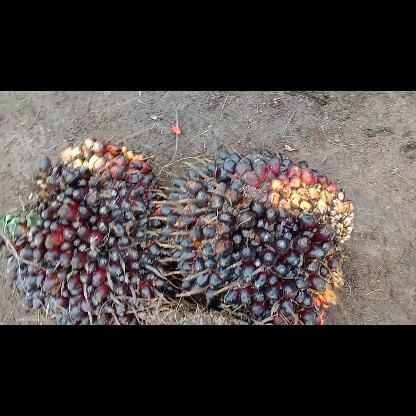TBS mentah: (156, 146, 354, 324), (0, 136, 176, 324)
